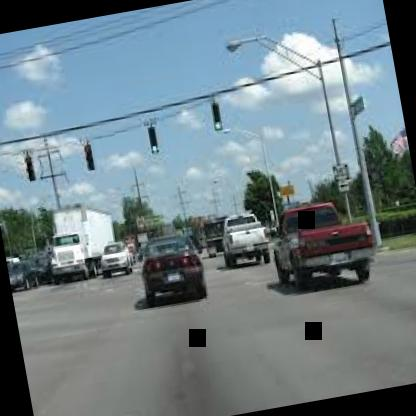car: (253, 189, 397, 305), (130, 226, 221, 322), (38, 198, 124, 294), (211, 198, 278, 285), (2, 233, 50, 303), (91, 235, 147, 284)
